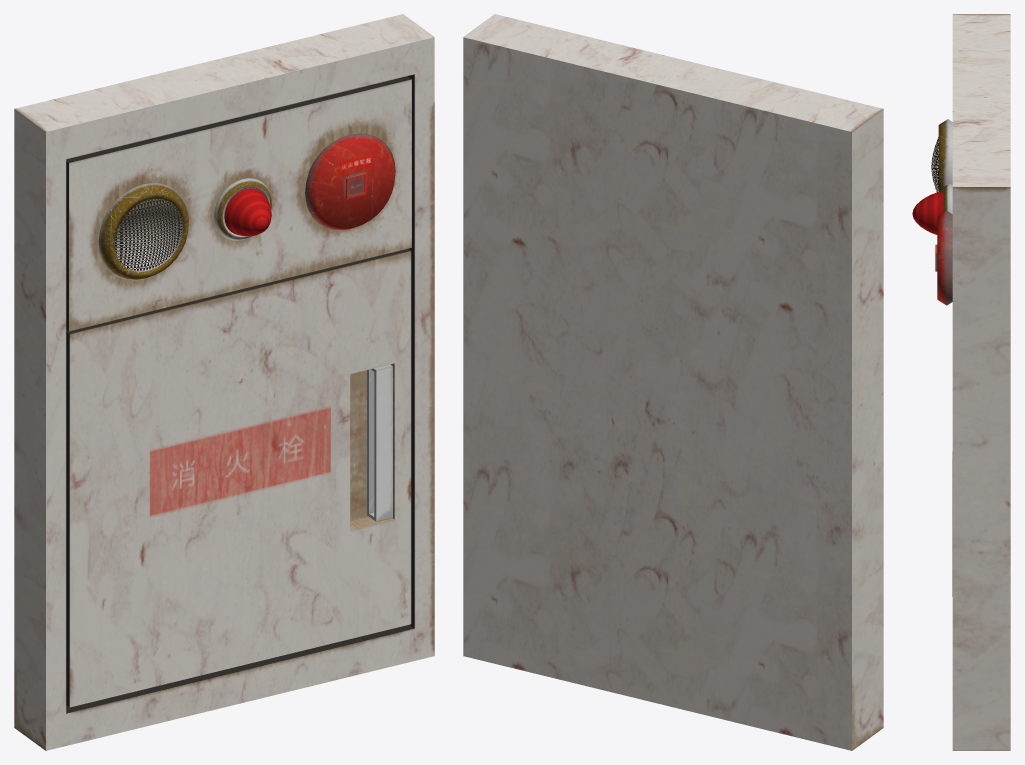
The model's file is main_none.fbx.
The picture shows the model from 3 angles, left to right: view 1: azimuth 30°, elevation 25°; view 2: azimuth 150°, elevation 25°; view 3: azimuth 270°, elevation 25°; orthographic projection. The views are drawn at different scales.
Parts seen in each view (by area): view 1: main; view 2: main; view 3: main.
Part boxes in pixels (<box>): main: <box>14,14,434,750</box>; main: <box>463,14,883,750</box>; main: <box>912,14,1010,750</box>.
Size of the model in its own units: 106 by 162 by 25.51.
